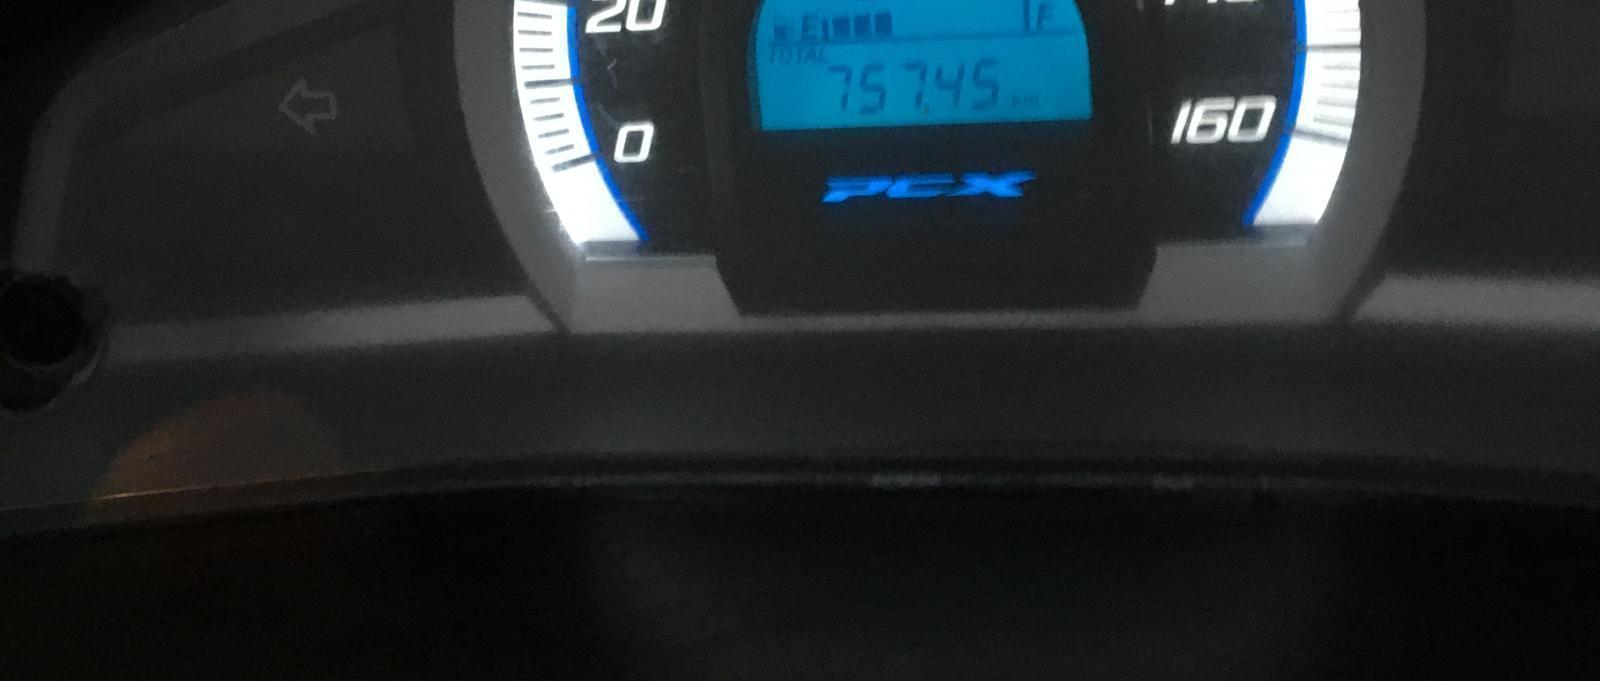4: (933, 61, 967, 106)
5: (969, 57, 1000, 111), (859, 60, 888, 114)
7: (824, 62, 853, 110), (900, 60, 924, 109)
X: (1034, 2, 1058, 30), (799, 13, 820, 40), (1022, 93, 1041, 109), (779, 46, 791, 64), (1009, 92, 1021, 110), (793, 46, 804, 64), (805, 47, 816, 64), (818, 45, 829, 63), (767, 47, 778, 63)
odometer: (739, 0, 1097, 132)
